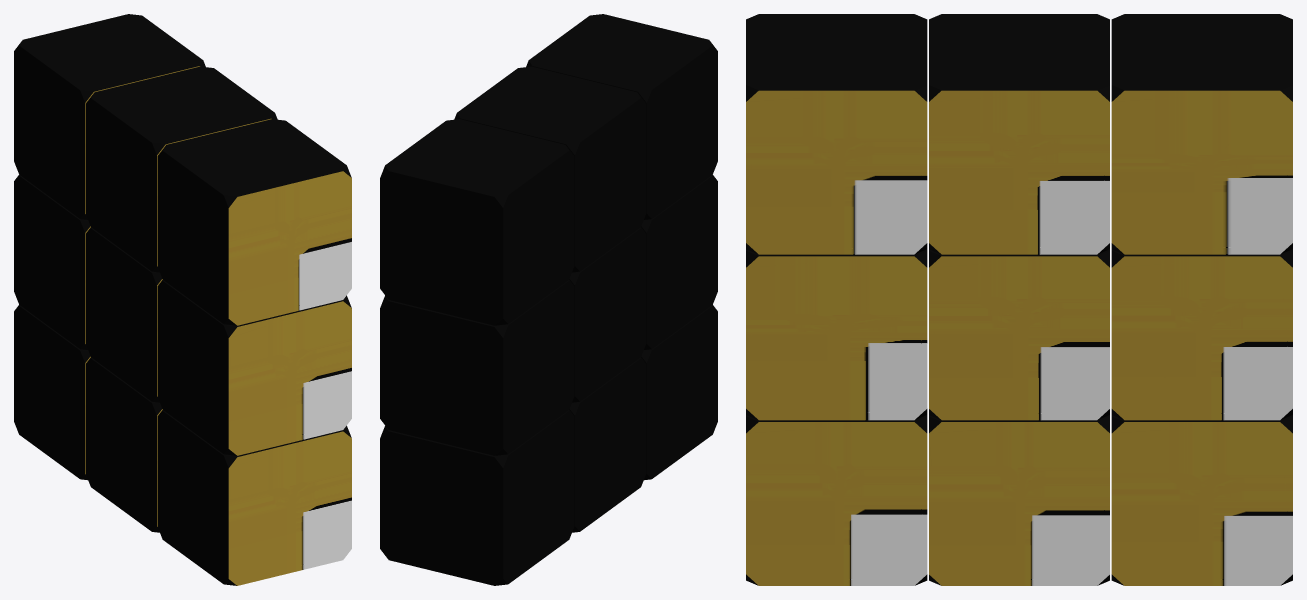
The model's file is Rubix_correct_two.glb.
3 views of the same model, side by side, from view 1: azimuth 30°, elevation 25°; view 2: azimuth 150°, elevation 25°; view 3: azimuth 270°, elevation 25° (orthographic). The views are drawn at different scales.
Parts seen in each view (by area): view 1: Cube.033, Cube.030, Cube.027, Cube.034, Cube.035, Cube.031, Cube.029, Cube.032, Cube.028; view 2: Cube.035, Cube.032, Cube.029, Cube.034, Cube.033, Cube.031, Cube.027, Cube.030, Cube.028; view 3: Cube.033, Cube.035, Cube.034, Cube.030, Cube.032, Cube.027, Cube.029, Cube.031, Cube.028.
Part boxes in pixels (x1,y1,x2,y2): Cube.033: [157, 119, 351, 325]; Cube.030: [157, 280, 351, 455]; Cube.027: [157, 410, 351, 585]; Cube.034: [86, 66, 277, 272]; Cube.035: [14, 14, 205, 219]; Cube.031: [86, 227, 162, 402]; Cube.029: [14, 304, 90, 480]; Cube.032: [14, 174, 90, 349]; Cube.028: [86, 357, 162, 532]; Cube.035: [380, 119, 574, 325]; Cube.032: [380, 280, 574, 455]; Cube.029: [380, 410, 574, 585]; Cube.034: [454, 66, 645, 272]; Cube.033: [526, 14, 717, 219]; Cube.031: [569, 227, 645, 402]; Cube.027: [641, 304, 717, 480]; Cube.030: [641, 174, 717, 349]; Cube.028: [569, 357, 645, 532]; Cube.033: [746, 14, 927, 254]; Cube.035: [1111, 14, 1292, 254]; Cube.034: [929, 14, 1109, 254]; Cube.030: [746, 249, 927, 420]; Cube.032: [1111, 249, 1292, 420]; Cube.027: [746, 415, 927, 585]; Cube.029: [1111, 415, 1292, 585]; Cube.031: [929, 249, 1109, 420]; Cube.028: [929, 415, 1109, 585].
Bounding box in the file's own units: 1 × 3.02 × 3.02.
Materials: 7 (6 with a texture image).
